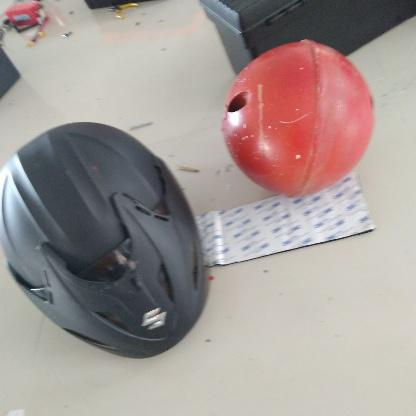red_buoy: (220, 36, 376, 200)
